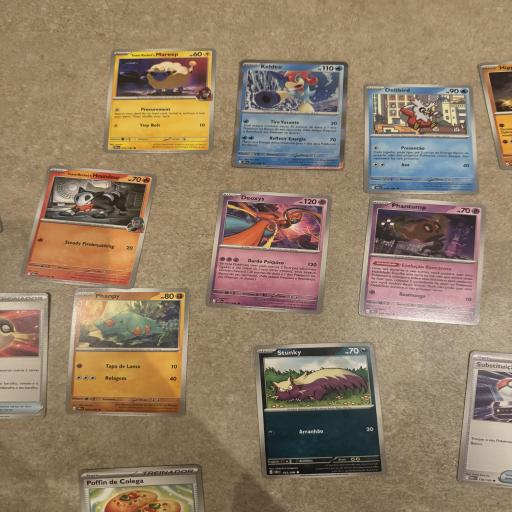card: (253, 337, 388, 484), (19, 163, 157, 290), (358, 194, 490, 325), (204, 187, 332, 315), (65, 287, 190, 417), (362, 83, 483, 196), (230, 59, 349, 169), (101, 46, 216, 153)
